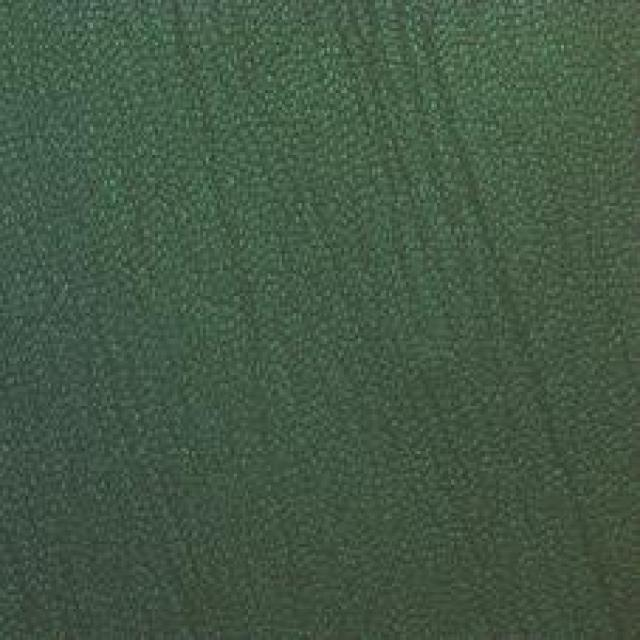Growth Marks: (350, 25, 511, 263)
